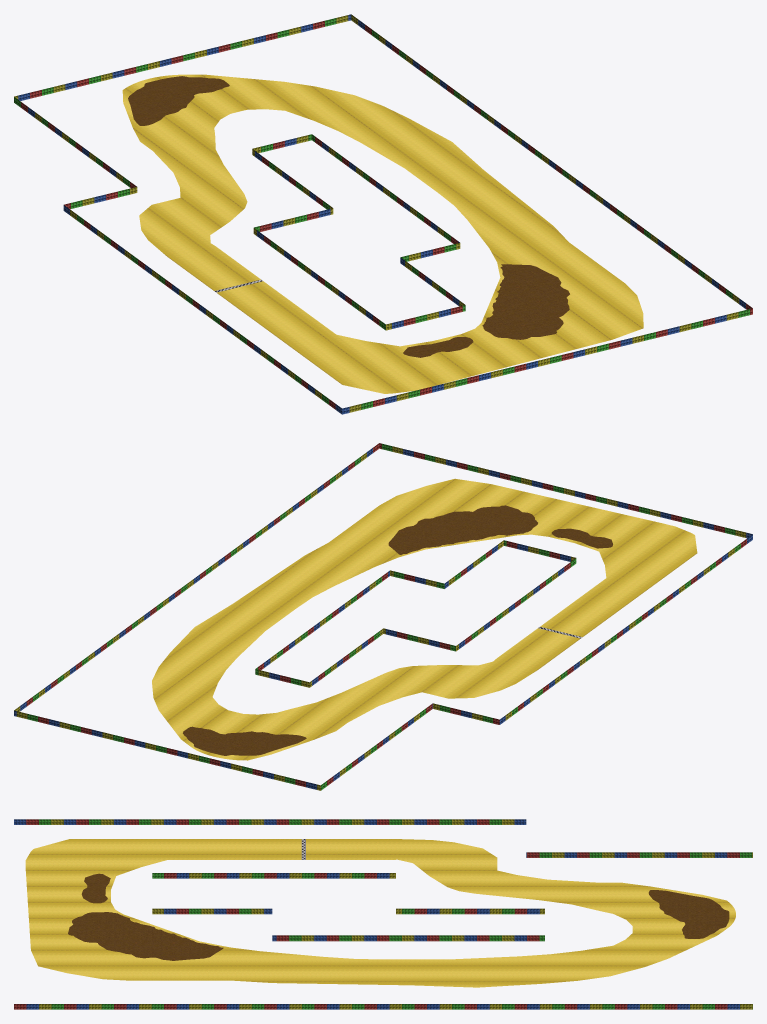
3 views of the same model, one above another, from view 1: azimuth 30°, elevation 25°; view 2: azimuth 150°, elevation 25°; view 3: azimuth 270°, elevation 25° (orthographic). The views are drawn at different scales.
Parts seen in each view (by area): view 1: choco-SKP--road, choco-SKP--brick, choco-SKP--mud; view 2: choco-SKP--road, choco-SKP--brick, choco-SKP--mud; view 3: choco-SKP--road, choco-SKP--brick, choco-SKP--mud.
Boxes of the visible parts, left/top/right/bottom form: choco-SKP--road: left=122, top=74, right=643, bottom=393; choco-SKP--brick: left=14, top=14, right=752, bottom=414; choco-SKP--mud: left=128, top=76, right=569, bottom=357; choco-SKP--road: left=152, top=478, right=697, bottom=760; choco-SKP--brick: left=14, top=443, right=752, bottom=790; choco-SKP--mud: left=183, top=505, right=612, bottom=755; choco-SKP--road: left=25, top=839, right=735, bottom=987; choco-SKP--brick: left=14, top=819, right=752, bottom=1009; choco-SKP--mud: left=68, top=873, right=729, bottom=960.
Size of what is drawn, in the model's own units: 34856 by 500 by 59033.
4 materials, 4 textured.
